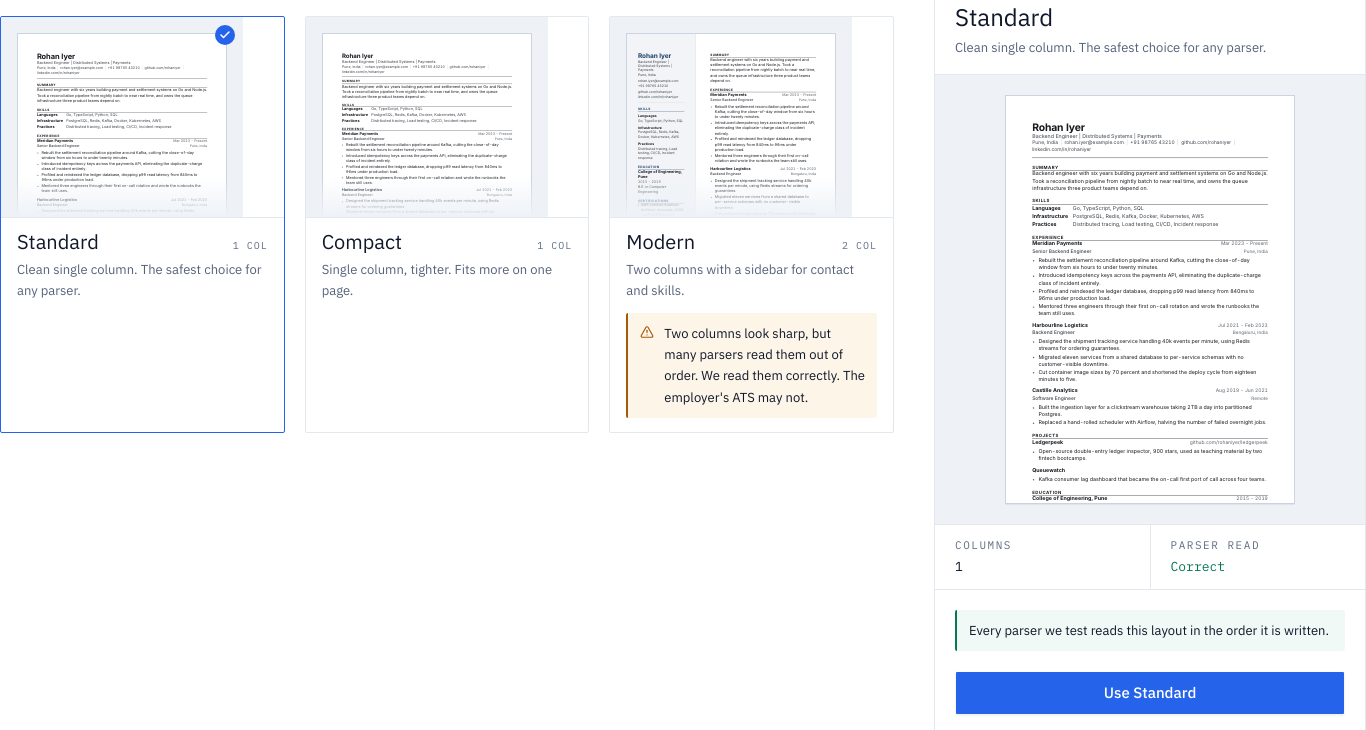
Scenario: TemplatePicker › repeats the warning in the detail panel once the template is selected
Click the radio button named "Modern": [752, 224] box [609,16,894,433]
(page scrolled)
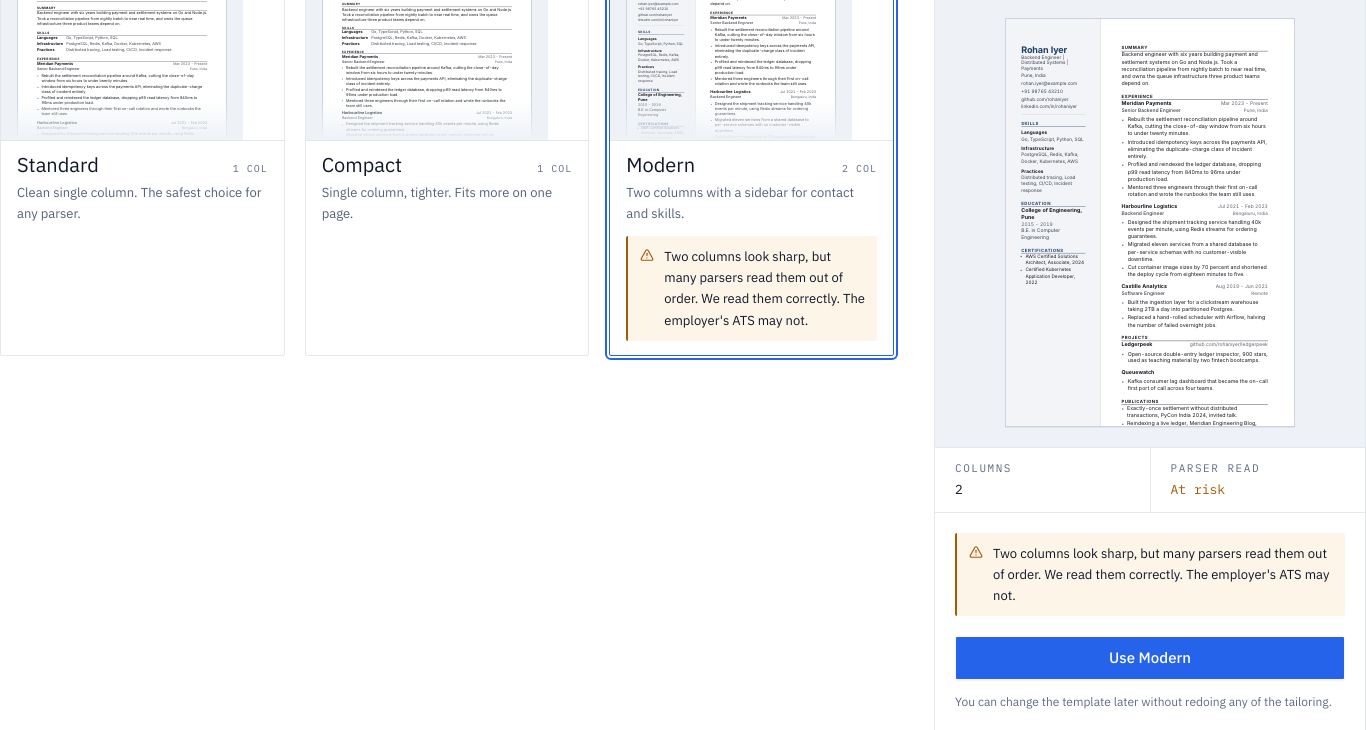
Expected: the text "Two columns look sharp, but many parsers read them out of order. We read them correctly. The employer's ATS may not." below "Parser read" is shown, [993,545,1329,604]
